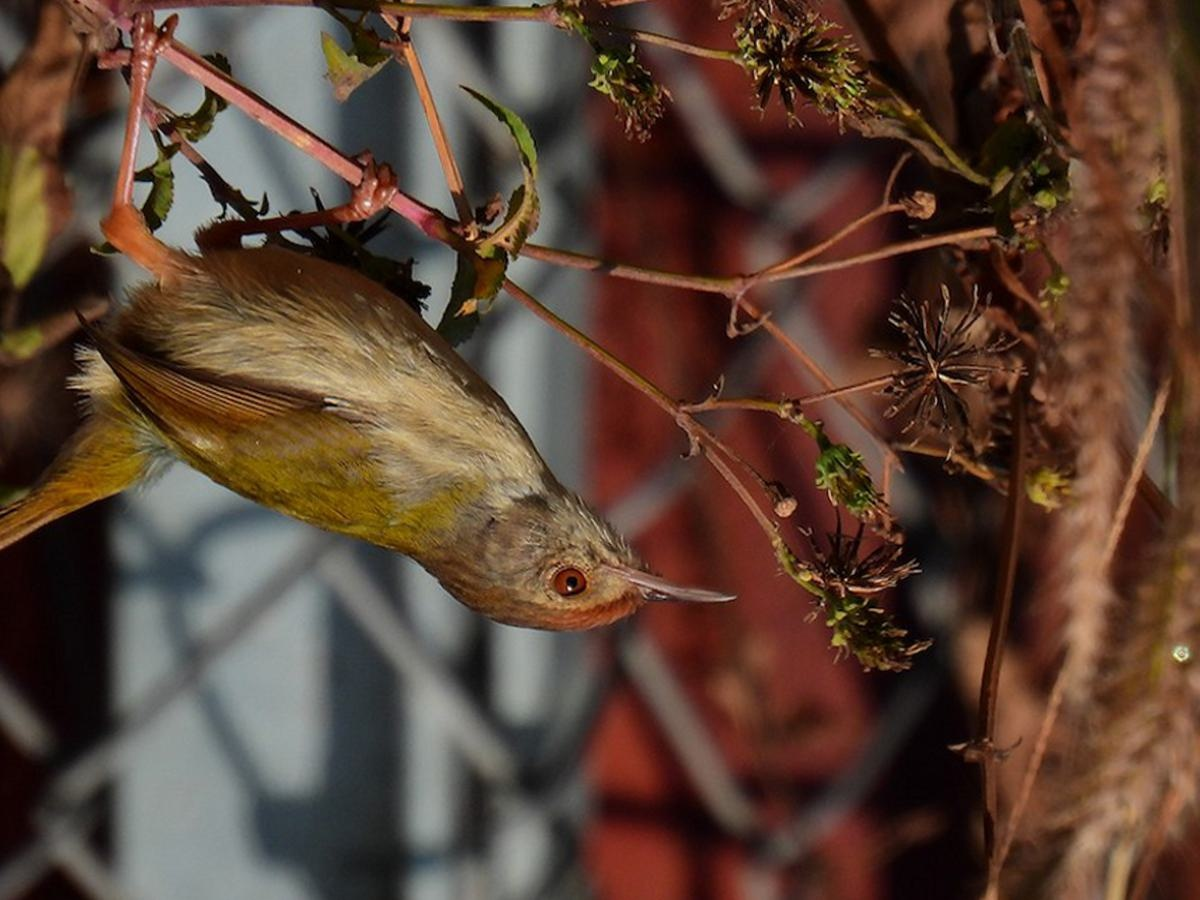tailorbird: (45, 118, 737, 641)
